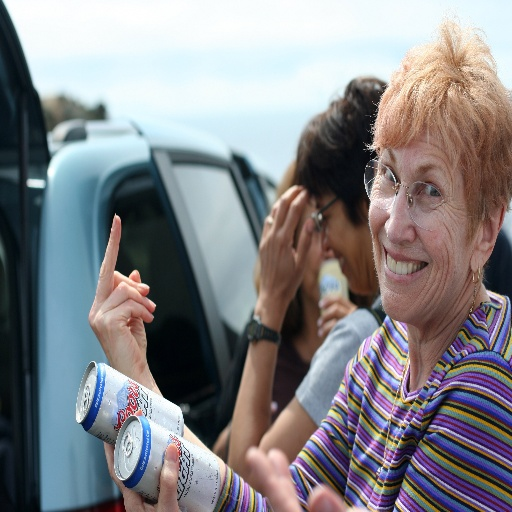hand: (252, 176, 325, 347), (87, 212, 156, 376), (243, 444, 350, 511), (102, 438, 183, 511), (315, 292, 356, 341), (304, 228, 325, 272)
